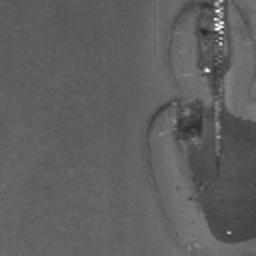Slag inclusion: (142, 0, 256, 250)
